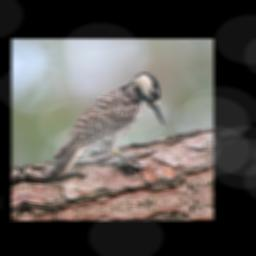Woodpecker: (36, 70, 169, 191)
